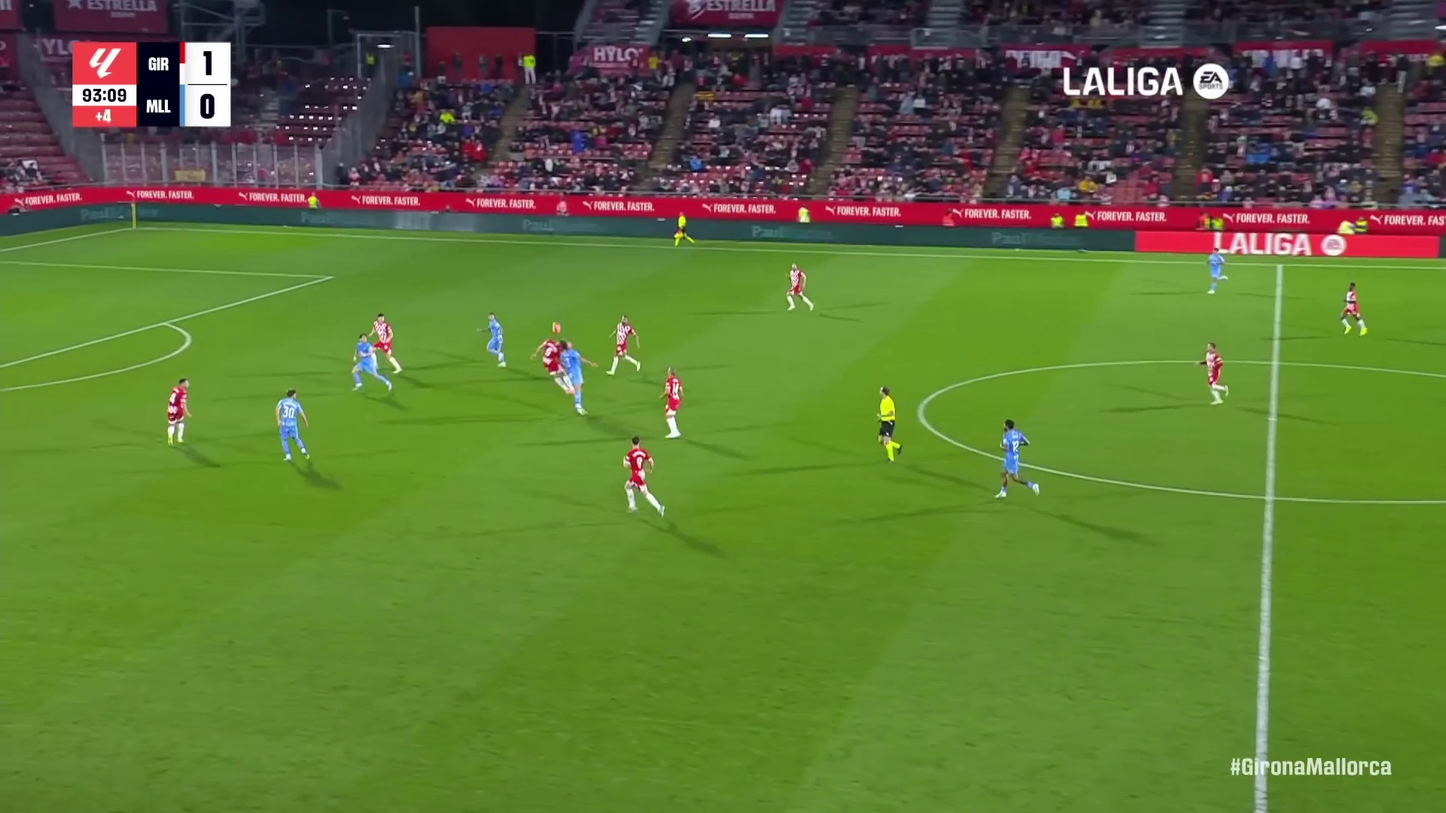ball: (551, 323, 563, 334)
player: (991, 418, 1039, 503), (618, 435, 666, 519), (274, 389, 312, 464), (557, 339, 593, 417), (1194, 340, 1233, 407), (349, 333, 391, 393), (605, 315, 642, 377), (370, 312, 405, 373), (162, 377, 192, 447), (658, 366, 686, 440), (530, 332, 566, 385), (479, 312, 510, 369), (1338, 281, 1369, 337), (783, 262, 816, 313), (1203, 248, 1230, 296)
referee: (872, 386, 907, 463), (671, 209, 695, 249)
